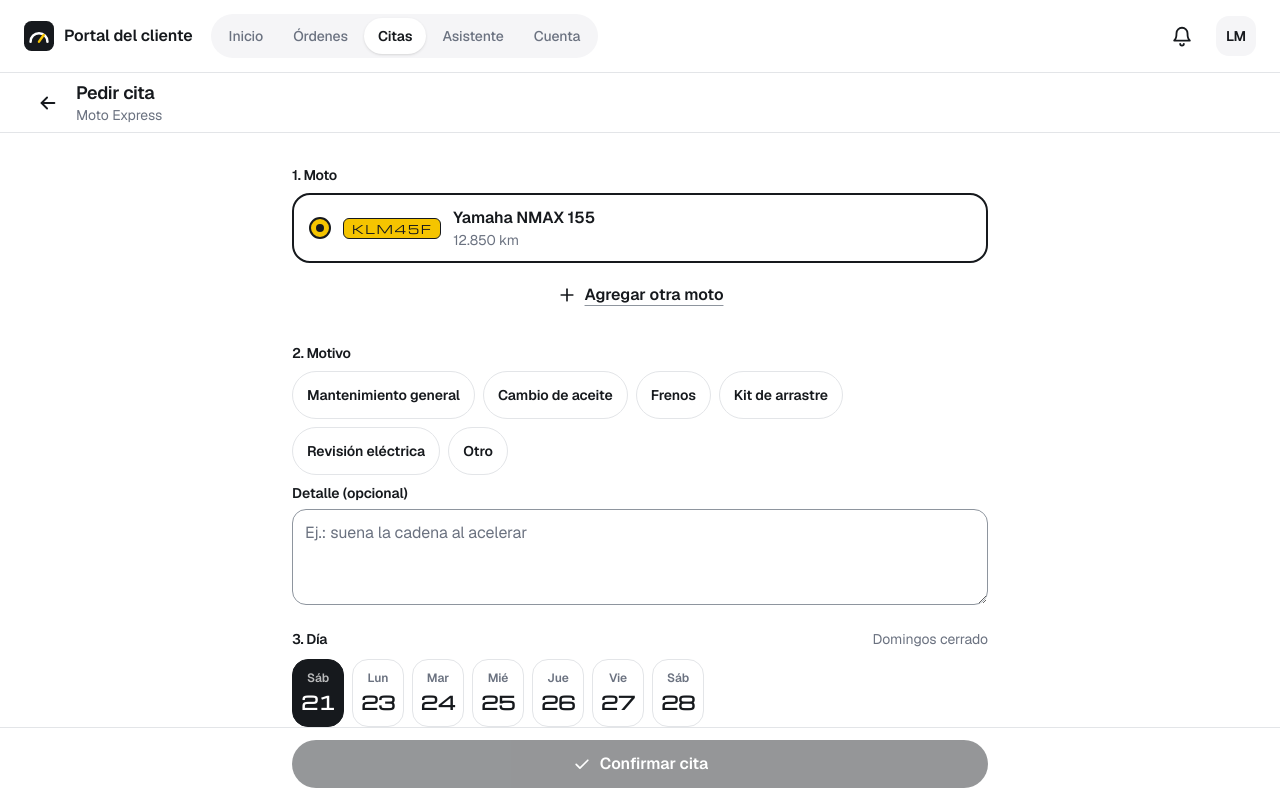
Test case: HU-59 · Pedir una cita como cliente › elige moto, motivo, día y hora; confirma y ve «Cita agendada»
Expected: the heading "Pedir cita" is shown, x1=76 y1=80 x2=154 y2=104
Expected: the button "Confirmar cita" is disabled, x1=292 y1=740 x2=988 y2=788
Click the button "Frenos". click: click(673, 395)
box: x1=636 y1=371 x2=711 y2=419
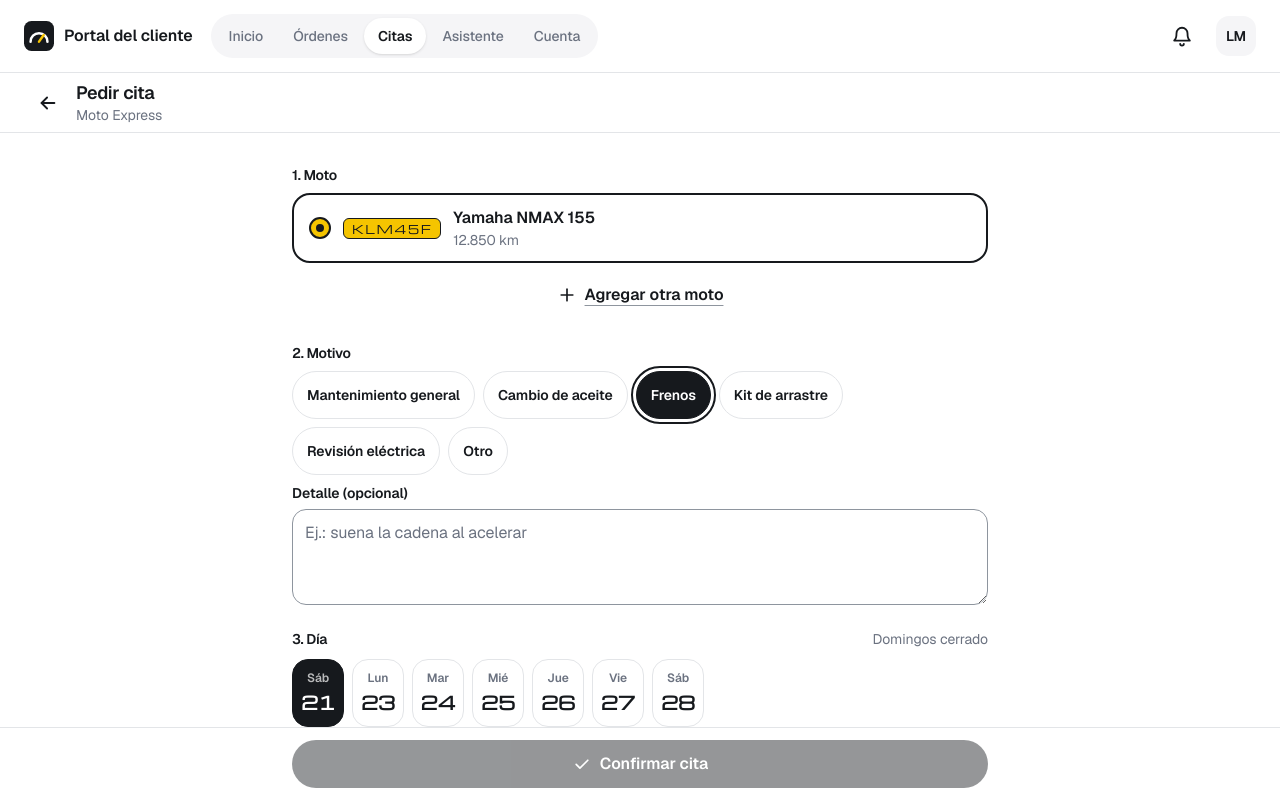
Type "Chillan al frenar" into the text box labelled "Detalle (opcional)". click: (640, 557)
box: x1=292 y1=509 x2=988 y2=605
(page scrolled)
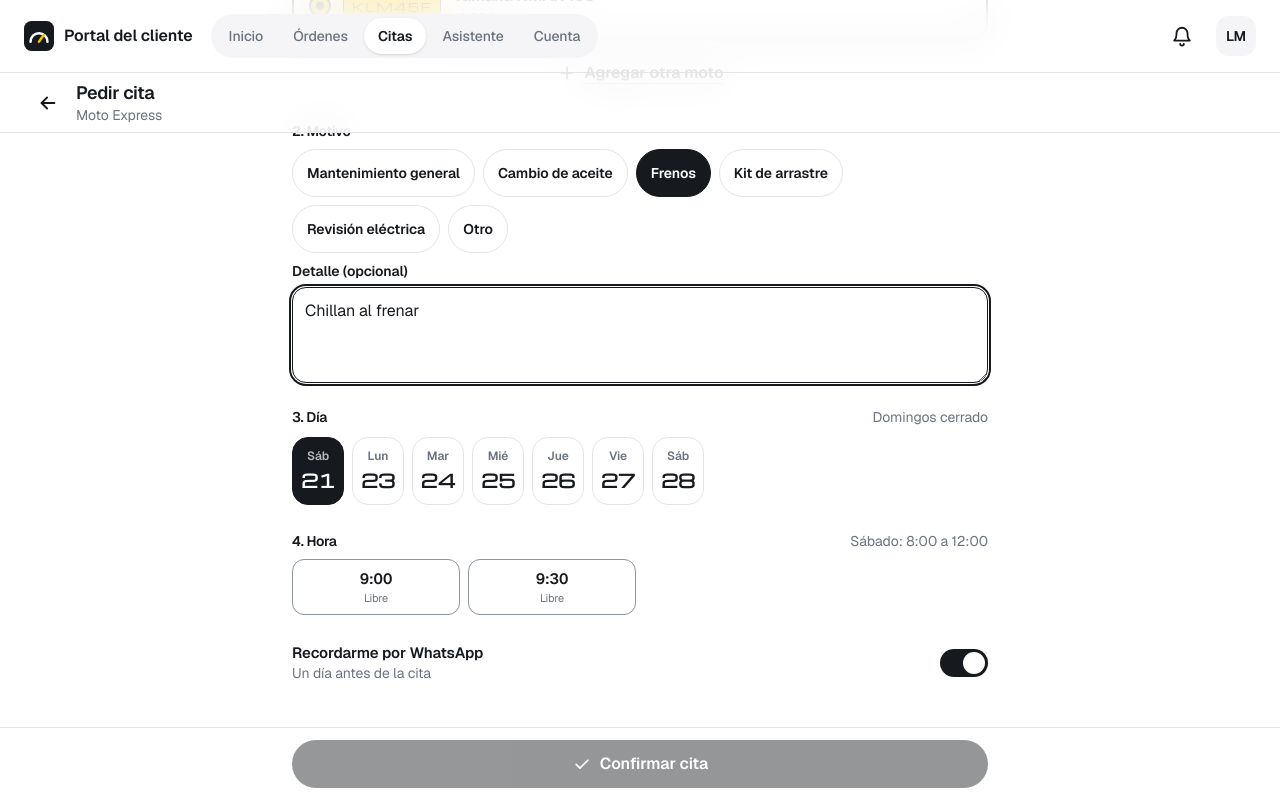
Click the button "9:00 Libre". click: click(376, 587)
box: x1=292 y1=559 x2=460 y2=615
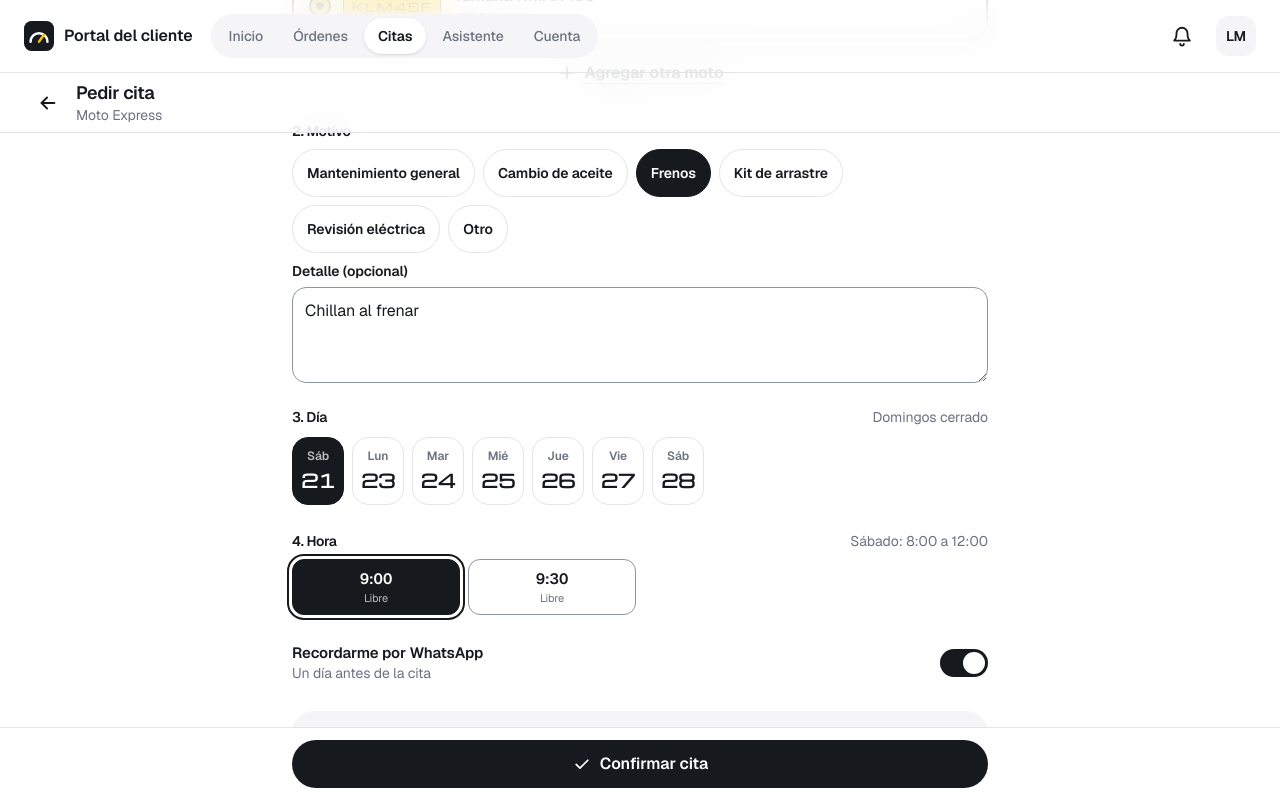
Expected: the heading "Resumen" is shown, x1=308 y1=728 x2=368 y2=746
Click the button "Confirmar cita". click: click(640, 764)
box: x1=292 y1=740 x2=988 y2=788
(page scrolled)
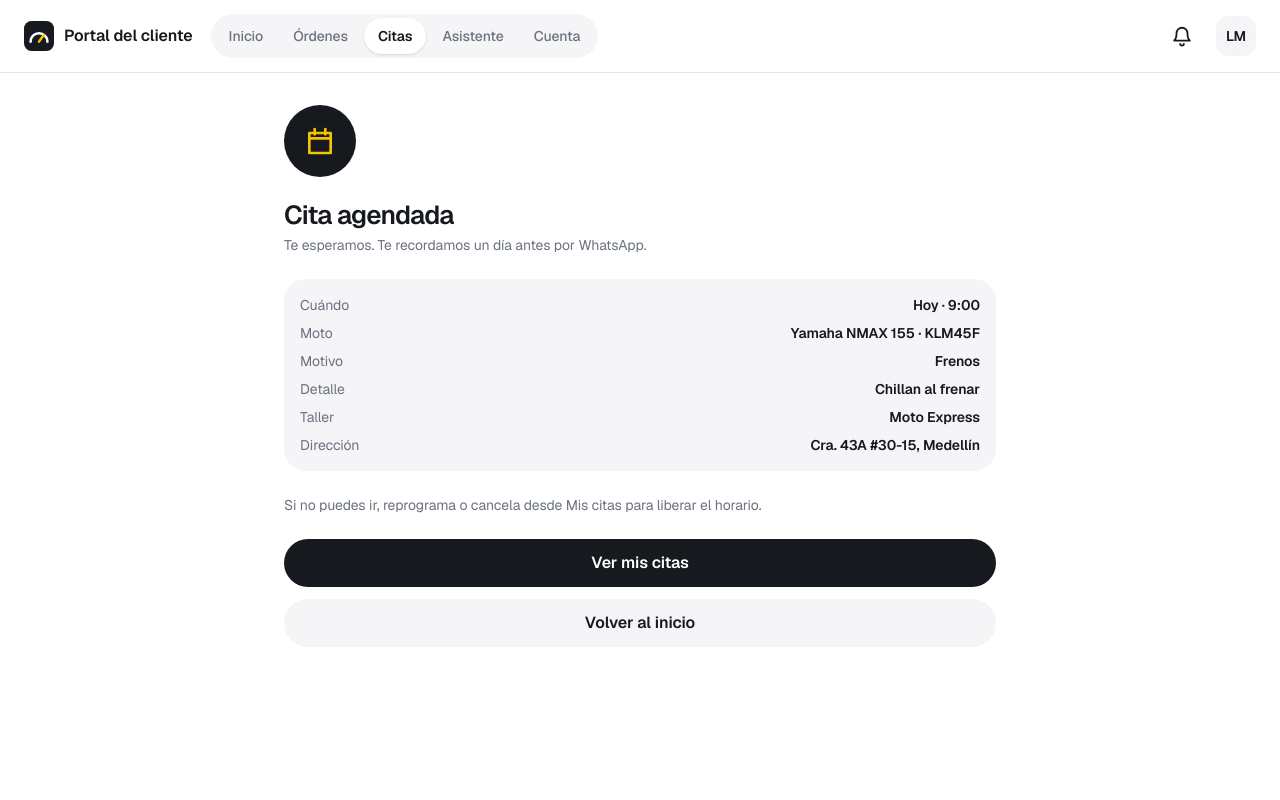
Expected: the text "Cra. 43A #30-15, Medellín" is shown, x1=810 y1=436 x2=980 y2=454
Expected: the heading "Cita agendada" is shown, x1=284 y1=198 x2=454 y2=232
Expected: the text "Te esperamos. Te recordamos un día antes por WhatsApp." is shown, x1=284 y1=236 x2=646 y2=254
